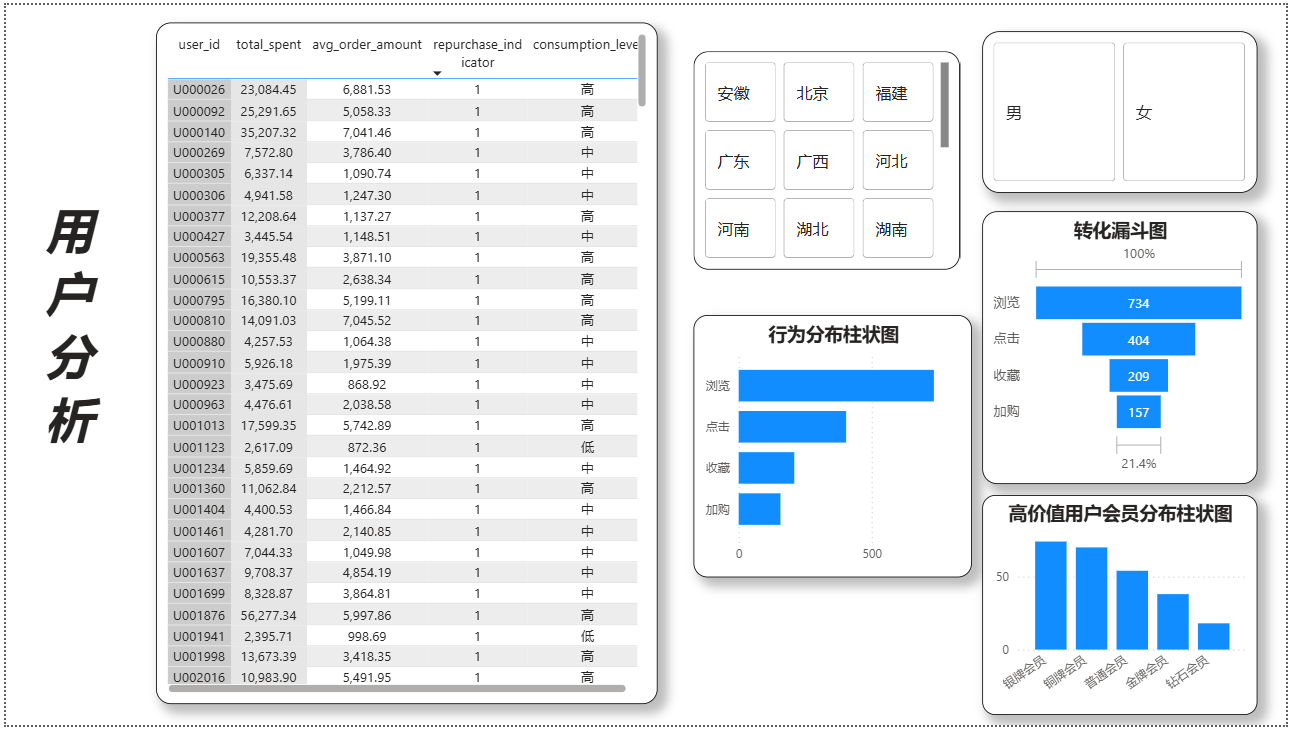

The page's visual inventory and layout, read from the dashboard file:
{"tool":"powerbi","page":{"name":"用户分析","canvas":[1280,720],"ordinal":1},"visuals":[{"type":"clusteredBarChart","title":"行为分布柱状图","fields":{"Category":["fact_user_behaviors.behavior_type"],"Y":["CountNonNull(fact_user_behaviors.behavior_id)"]},"box":[687.5,310,278.8,262.5],"z":0},{"type":"funnel","title":"转化漏斗图","fields":{"Category":["fact_user_behaviors.behavior_type"],"Y":["CountNonNull(fact_user_behaviors.behavior_id)"]},"box":[976.2,206.2,275,272.5],"z":1000},{"type":"columnChart","title":"高价值用户会员分布柱状图","fields":{"Category":["dim_users.member_level"],"Y":["CountNonNull(dim_users.user_id)"]},"box":[976.2,490,275,220],"z":2000},{"type":"tableEx","title":"total_spent","fields":{"Values":["dim_user_features.user_id","Sum(dim_user_features.total_spent)","Sum(dim_user_features.avg_order_amount)","Sum(dim_user_features.repurchase_indicator)","dim_user_features.consumption_level"]},"box":[150,17.1,501.4,681.4],"z":3000},{"type":"textbox","box":[20,187.5,86.2,308.8],"z":4000},{"type":"advancedSlicerVisual","fields":{"Values":["dim_users.province"]},"box":[687.5,46.2,266.2,218.8],"z":5000},{"type":"advancedSlicerVisual","fields":{"Values":["dim_users.gender"]},"box":[976.2,26.2,275,161.2],"z":6000}]}

Visuals, with their boxes in screenshot pixels (x1, y1, x2, y2), scaled from the page's 1280x720 canvas onto the 1291x732 screenshot:
"行为分布柱状图" clusteredBarChart: (left=693, top=315, right=975, bottom=582)
"转化漏斗图" funnel: (left=985, top=210, right=1262, bottom=487)
"高价值用户会员分布柱状图" columnChart: (left=985, top=498, right=1262, bottom=722)
"total_spent" tableEx: (left=151, top=17, right=657, bottom=710)
textbox: (left=20, top=191, right=107, bottom=505)
advancedSlicerVisual - dim_users.province: (left=693, top=47, right=962, bottom=269)
advancedSlicerVisual - dim_users.gender: (left=985, top=27, right=1262, bottom=191)
